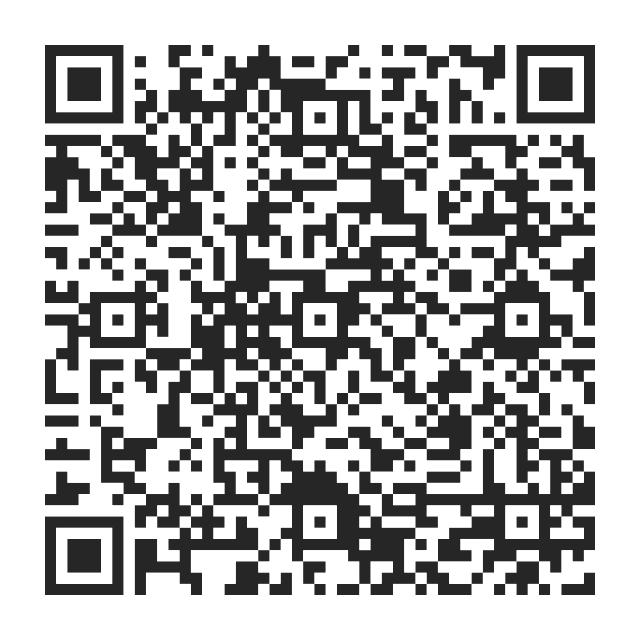QRCode: (1, 36, 631, 631)
